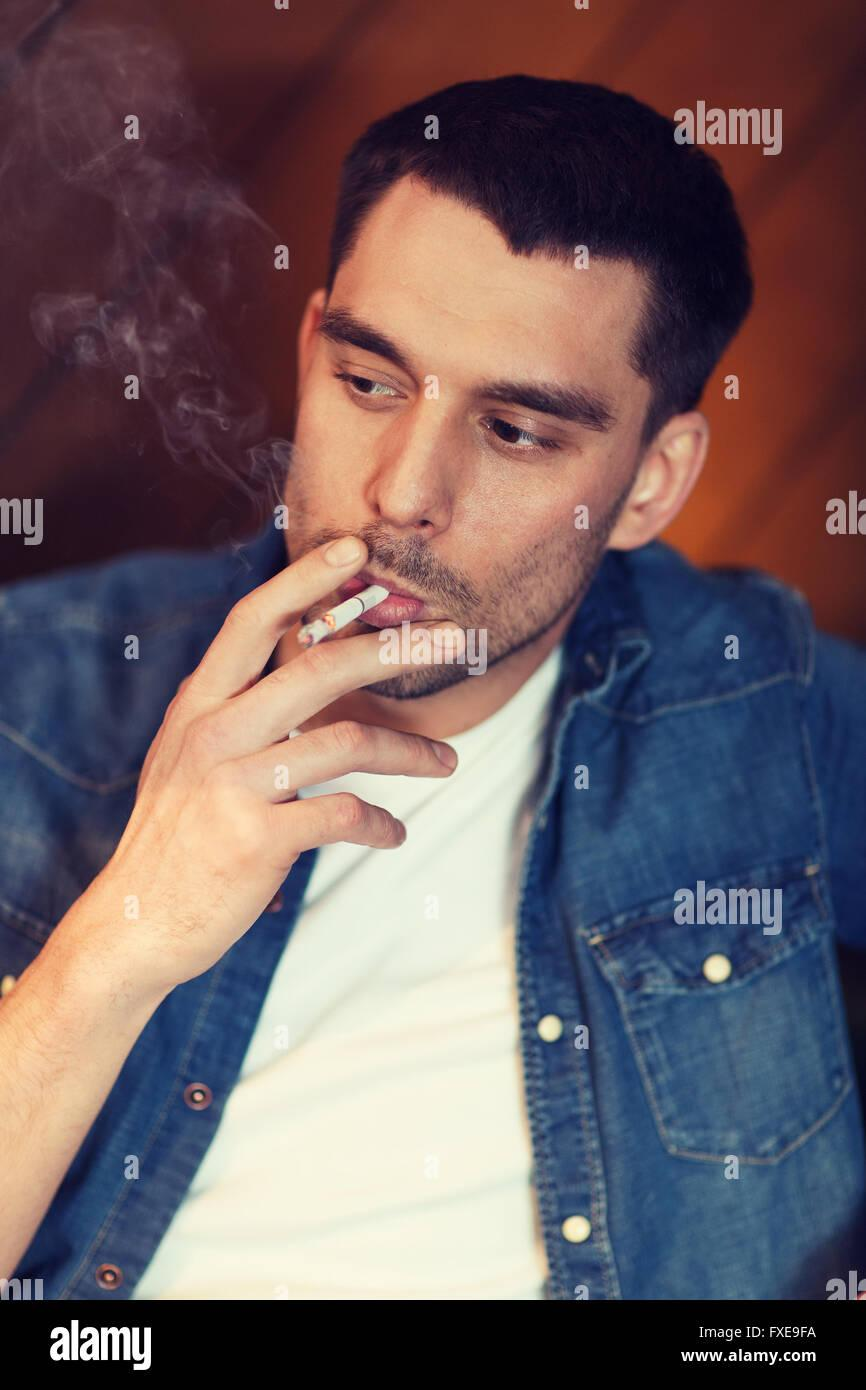cigarette: (297, 584, 388, 646)
